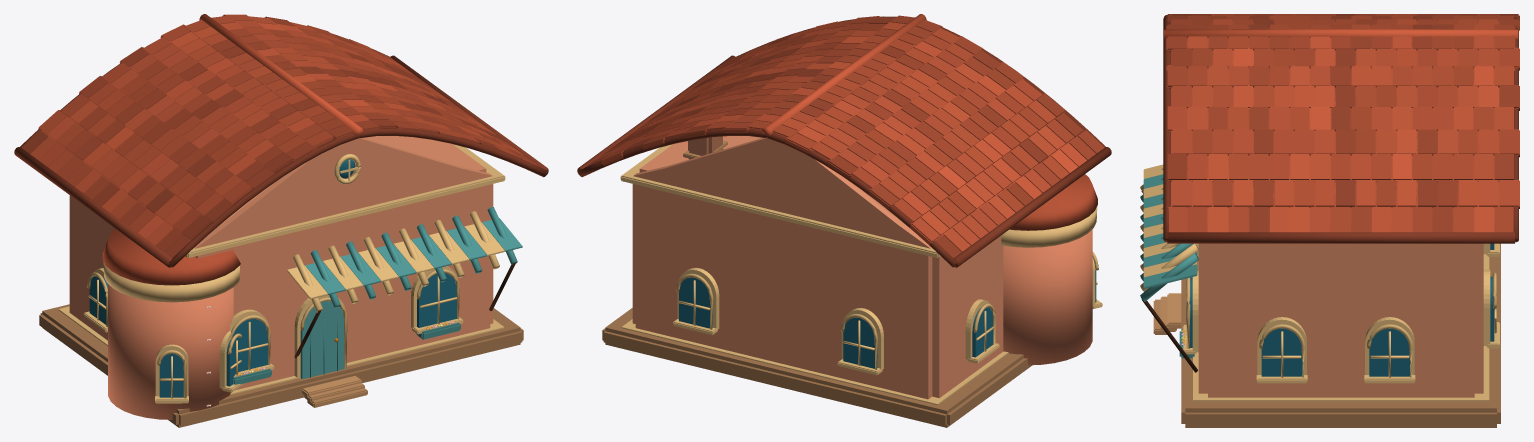
The model's file is market-coral-CGSrrlER.glb.
3 views of the same model, side by side, from view 1: azimuth 30°, elevation 25°; view 2: azimuth 150°, elevation 25°; view 3: azimuth 270°, elevation 25° (orthographic). The views are drawn at different scales.
Visible parts, largest first — view 1: market-coral; view 2: market-coral; view 3: market-coral.
Part boxes in pixels (<box>): market-coral: <box>14,14,548,427</box>; market-coral: <box>577,14,1111,427</box>; market-coral: <box>1140,14,1519,427</box>.
Size of the model in its own units: 10.5 by 6.7 by 7.6.
